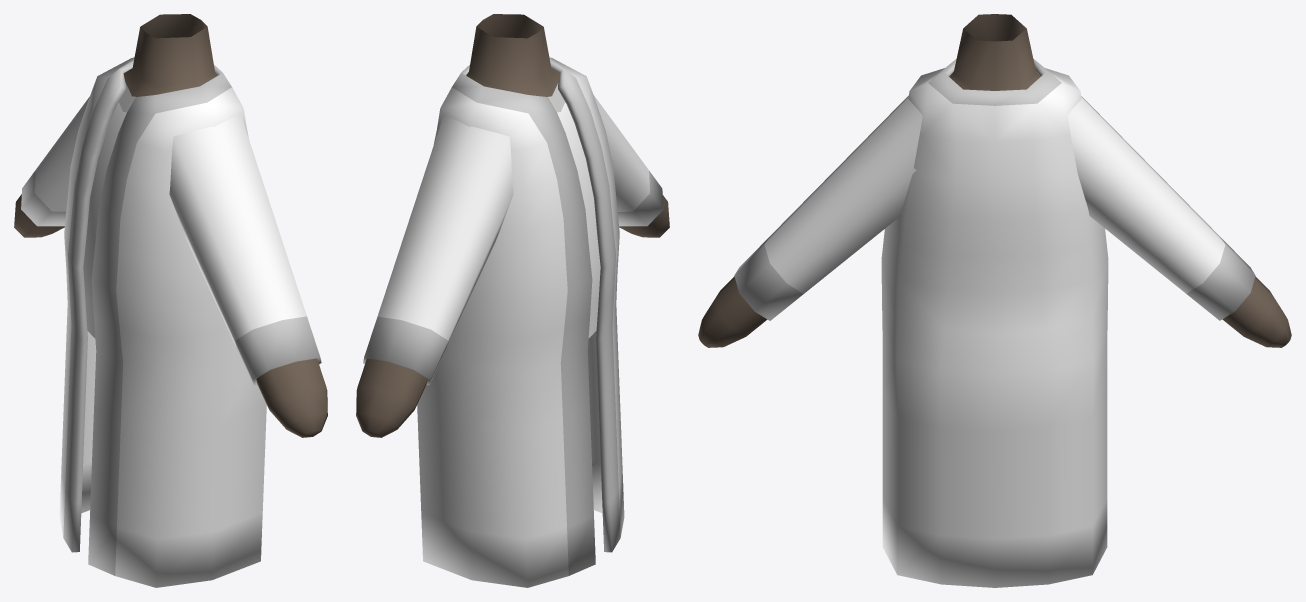
Rendered from long_cardigan.fbx.
The picture shows the model from 3 angles, left to right: view 1: azimuth 30°, elevation 25°; view 2: azimuth 150°, elevation 25°; view 3: azimuth 270°, elevation 25°; orthographic projection. The views are drawn at different scales.
Parts seen in each view (by area): view 1: Cube.003; view 2: Cube.003; view 3: Cube.003.
Boxes of the visible parts, <box> form: Cube.003: <box>14,14,327,587</box>; Cube.003: <box>356,14,669,587</box>; Cube.003: <box>698,14,1291,587</box>.
Bounding box in the file's own units: 118 × 345 × 351.
